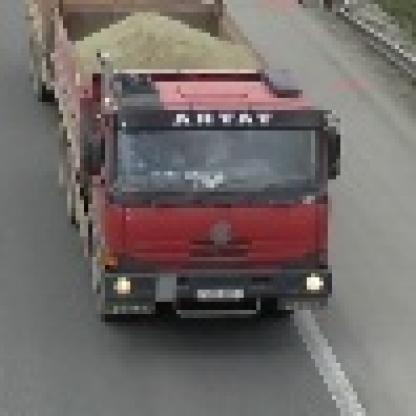truck: (26, 1, 337, 323)
